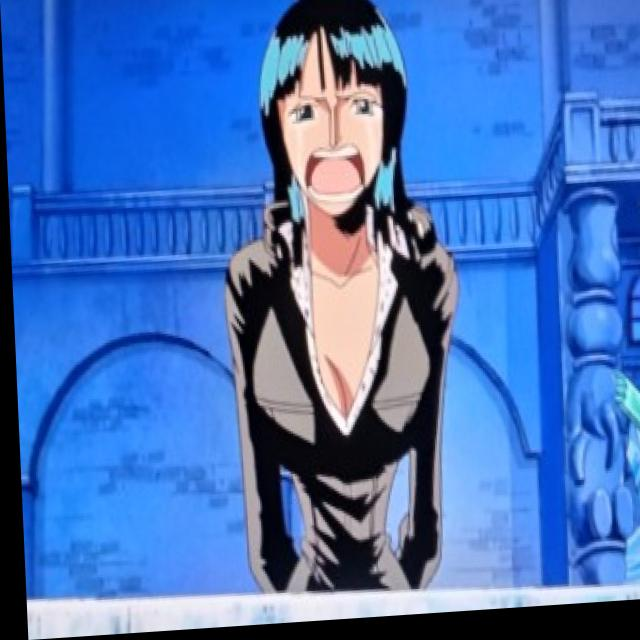NicoRobin: (242, 0, 427, 262)
